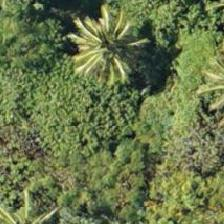coconut_tree: (63, 5, 153, 95)
